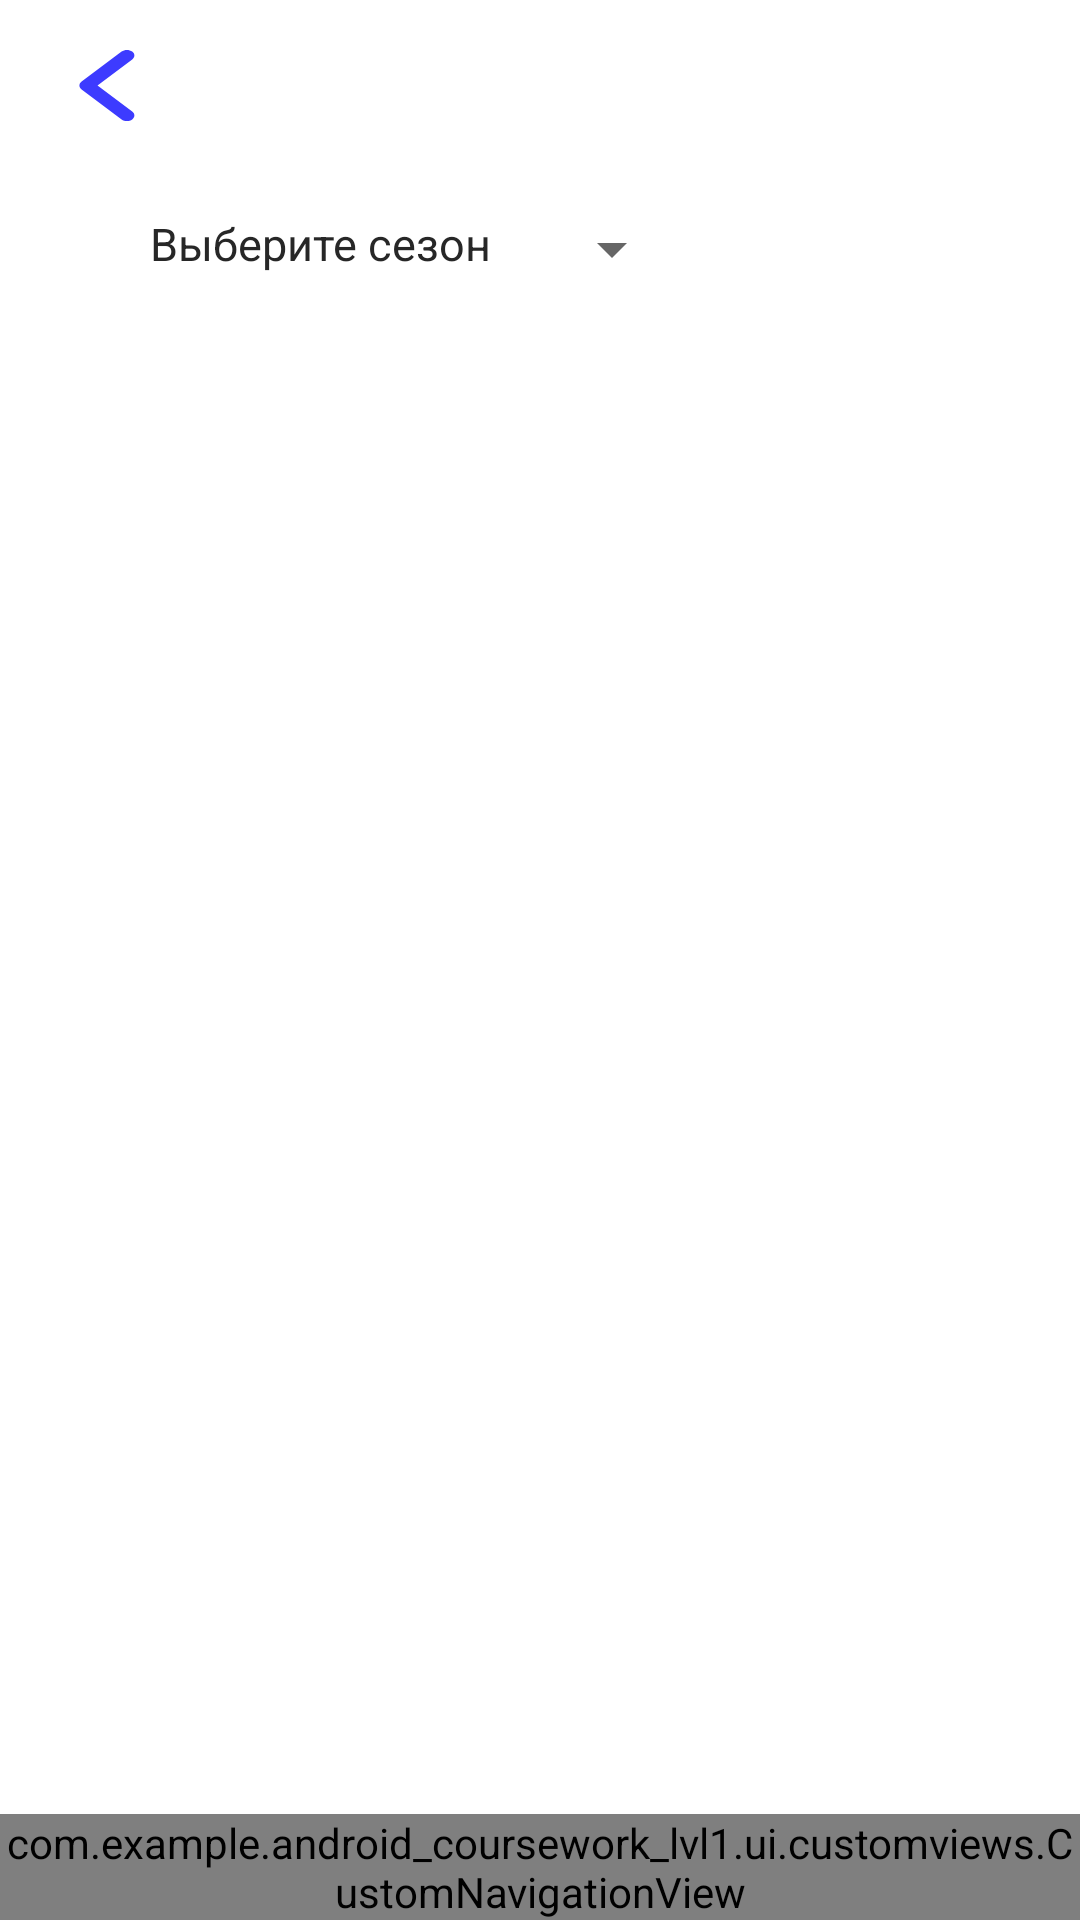

Icon bounding boxes for this 1080 x 1920 phone screenshot, format BBox(x1, y1, x2, y2):
back: BBox(79, 50, 135, 121)
